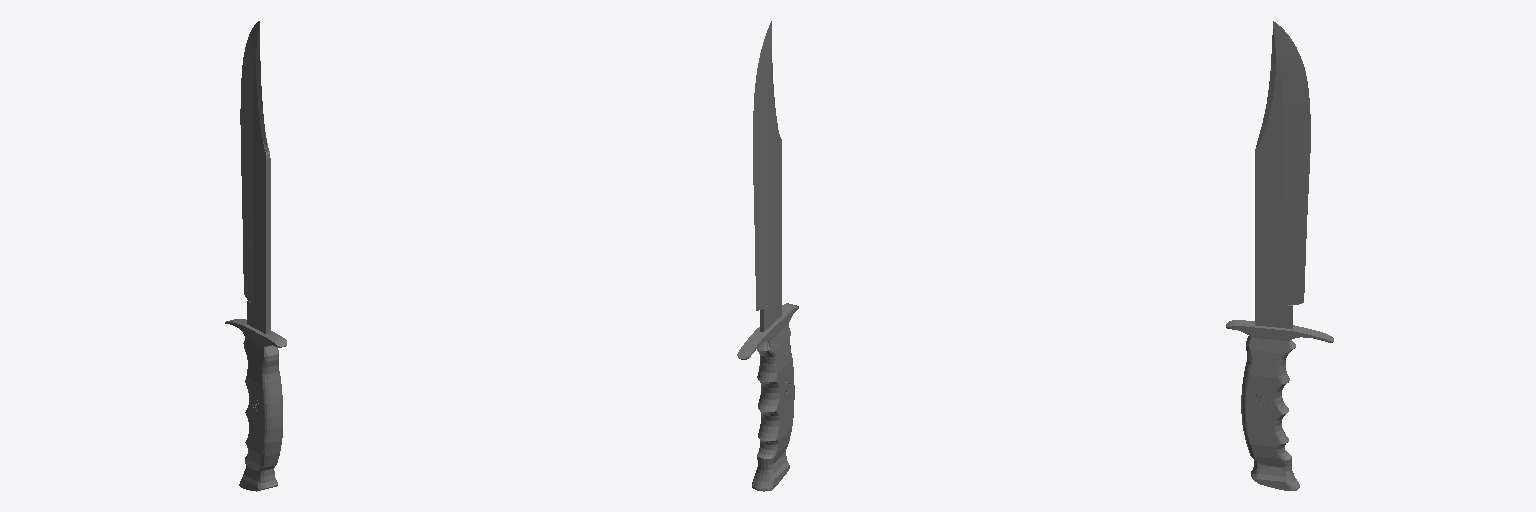
The robot description file, URDF, robot "object":
<?xml version="1.0"?>
<robot name="object">
  <link name="object">
    <visual>
      <origin xyz="0 0 0"/>
      <geometry>
        <mesh
          filename="../../mesh/oakink_virtual/knife_s194.stl" />
      </geometry>
      <material name="mat">
        <color rgba="0.5 0.5 0.5 1"/>
      </material>
    </visual>

    <collision>
      <origin xyz="0 0 0"/>
      <geometry>
        <mesh
          filename="../../mesh/oakink_virtual/knife_s194.stl" />
      </geometry>
    </collision>
  </link>
</robot>

--- Render facts (derived) ---
3 views of the same robot in one strip: view 1: azimuth 30°, elevation 25°; view 2: azimuth 150°, elevation 25°; view 3: azimuth 270°, elevation 25° (orthographic).
Model object with 1 links and 0 joints (none), rooted at object, posed all joints at 0.
Links seen in each view (by area): view 1: object; view 2: object; view 3: object.
Boxes of the visible links, x1,y1,x2,y2 form: object: [225, 21, 286, 491]; object: [737, 21, 798, 491]; object: [1226, 21, 1333, 490].
Size in the robot's own frame: 0.0102 by 0.0475 by 0.2247 metres.
Meshes: 1 distinct files referenced, 1 mesh visuals loaded (1 binary STL).